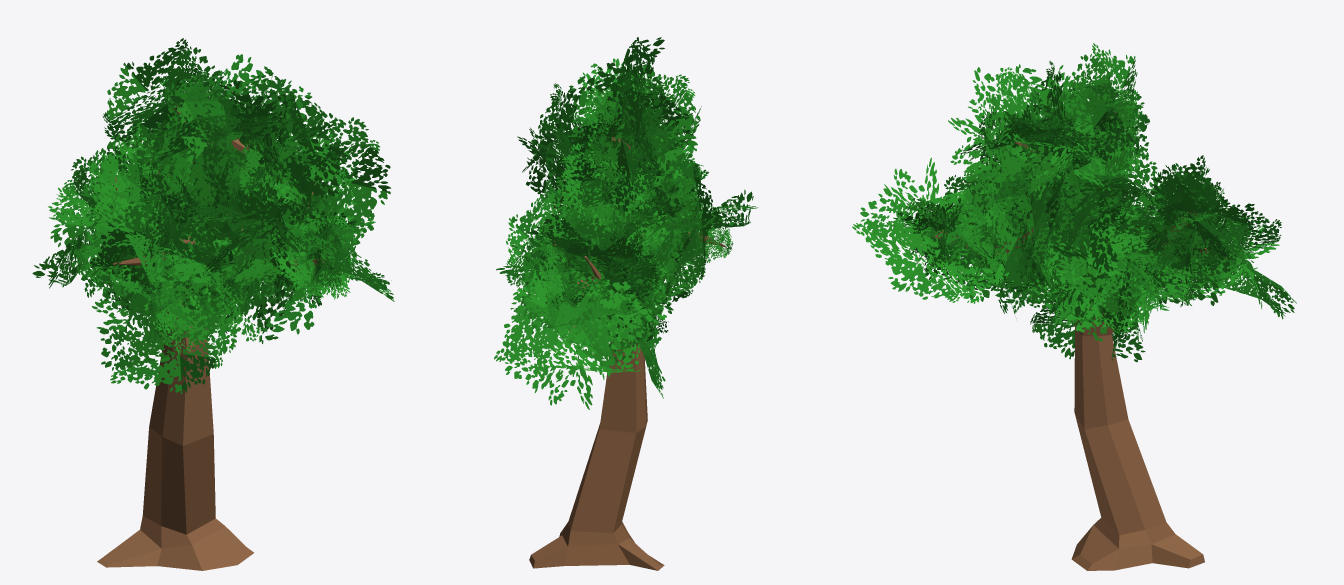
File: mesh_tree2.fbx
3 views of the same model, side by side, from view 1: azimuth 30°, elevation 25°; view 2: azimuth 150°, elevation 25°; view 3: azimuth 270°, elevation 25° (orthographic). The views are drawn at different scales.
Parts seen in each view (by area): view 1: mesh_Tree2; view 2: mesh_Tree2; view 3: mesh_Tree2.
Boxes of the visible parts, x1,y1,x2,y2 form: mesh_Tree2: [32, 38, 394, 570]; mesh_Tree2: [494, 37, 758, 570]; mesh_Tree2: [852, 43, 1296, 570].
Size of the model in its own units: 8.04 by 13.82 by 12.2.
